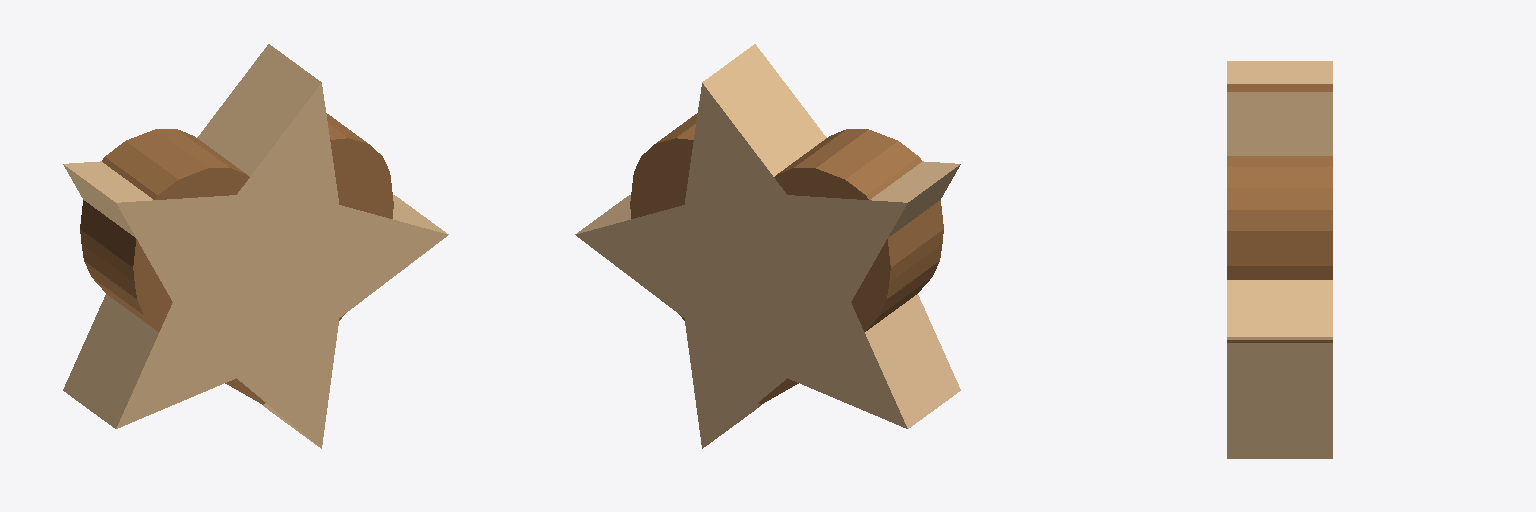
Rendered from tinker.obj.
The picture shows the model from 3 angles: view 1: azimuth 30°, elevation 25°; view 2: azimuth 150°, elevation 25°; view 3: azimuth 270°, elevation 25°; orthographic projection.
Visible parts, largest first — view 1: obj_0; view 2: obj_0; view 3: obj_0.
Part boxes in pixels (x1,y1,x2,y2): obj_0: (63, 44, 448, 448); obj_0: (575, 44, 960, 448); obj_0: (1227, 61, 1332, 458).
Bounding box in the file's own units: 36.18 × 38.04 × 10.